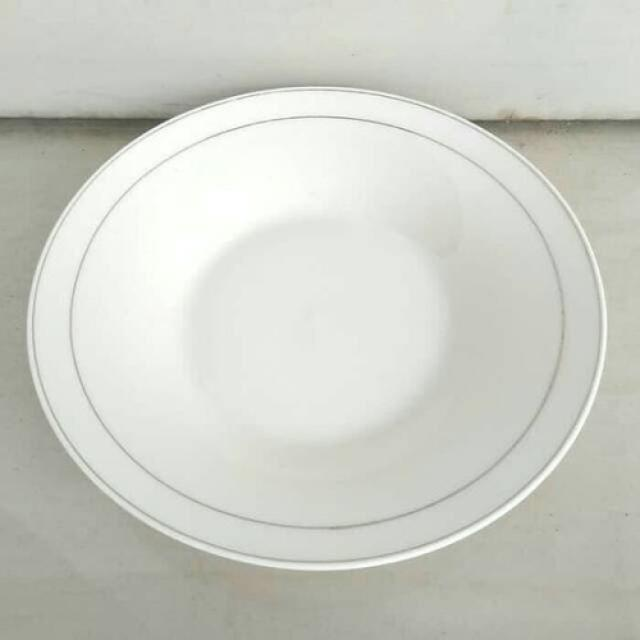Plate: (16, 74, 640, 581)
